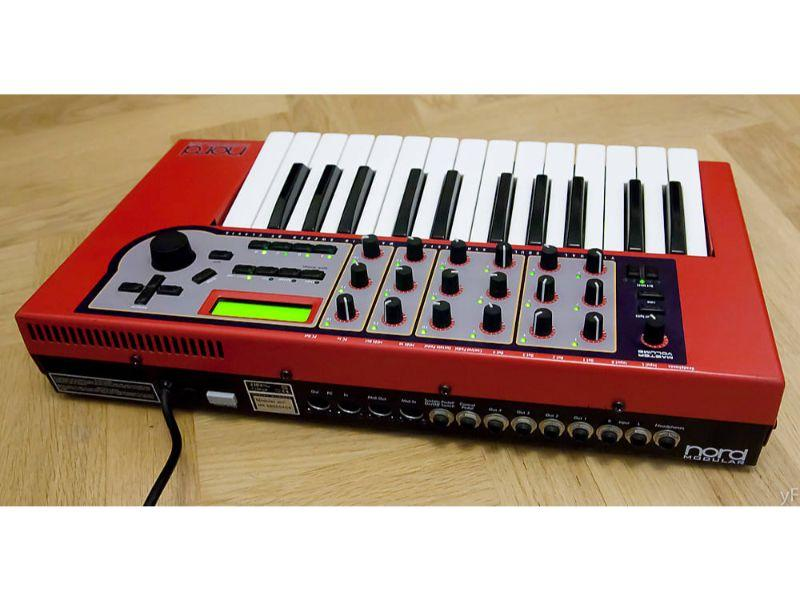synthesizer: (13, 114, 786, 477)
